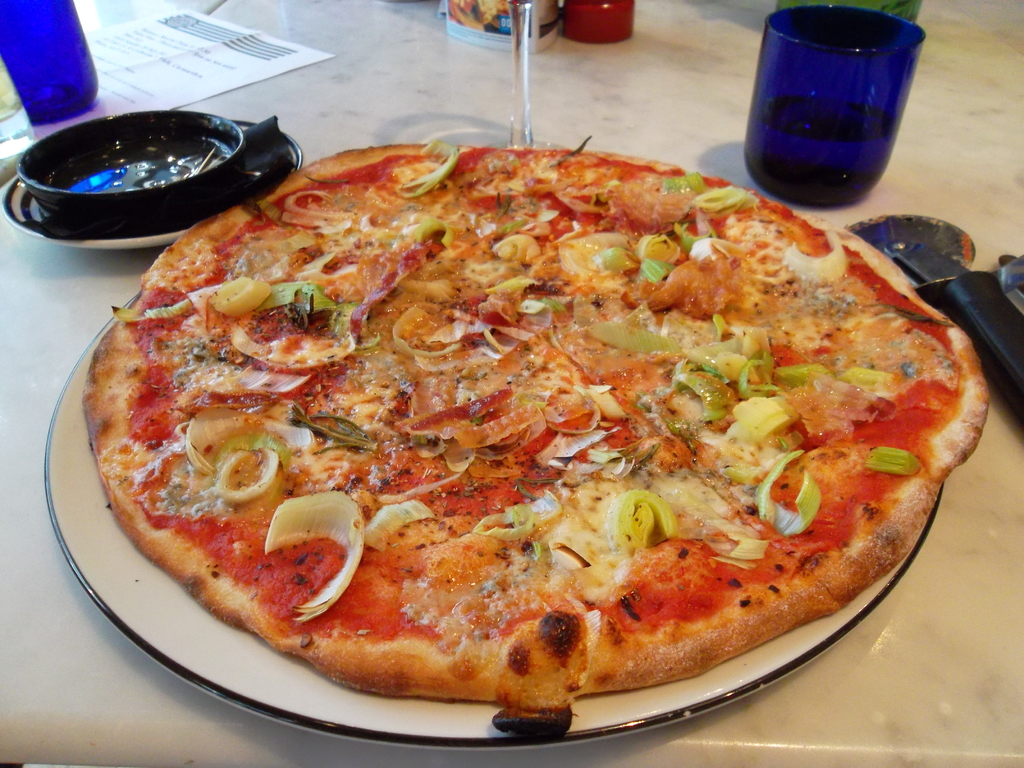Pizza: (84, 142, 992, 707)
